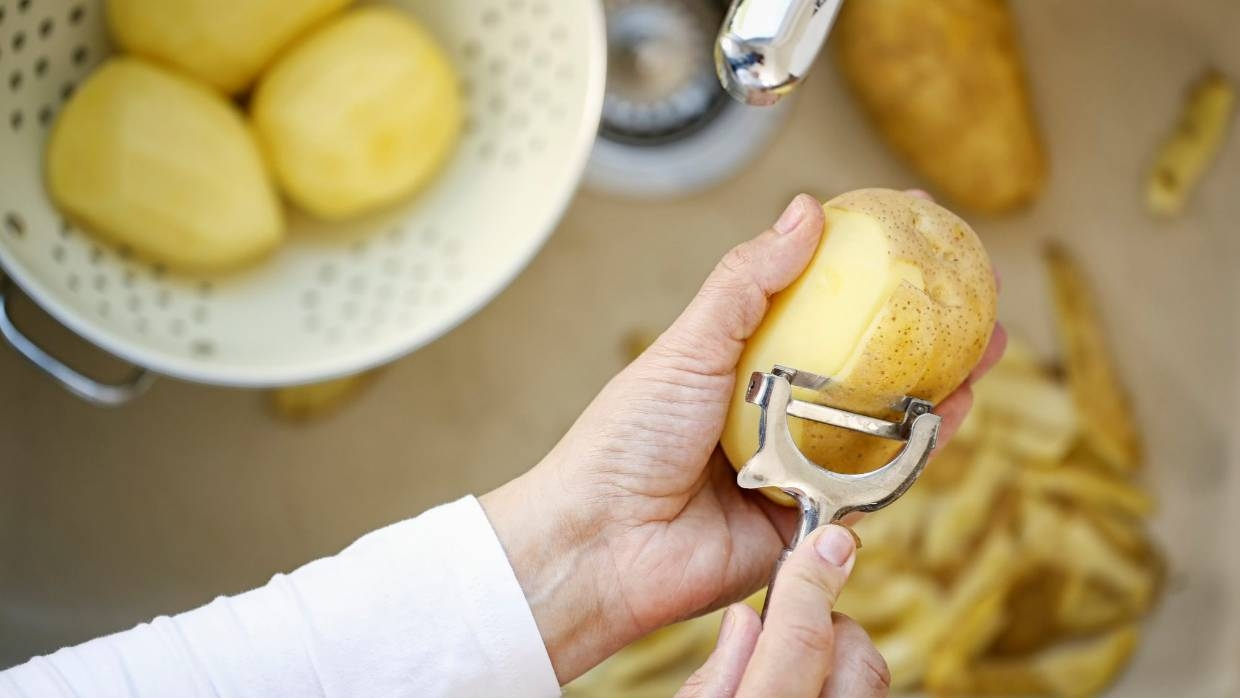kitchen_waste: (723, 162, 999, 512), (824, 1, 1098, 221), (55, 62, 297, 291), (246, 21, 481, 229), (90, 1, 380, 102), (1130, 61, 1234, 232)
metal: (727, 361, 947, 633)
